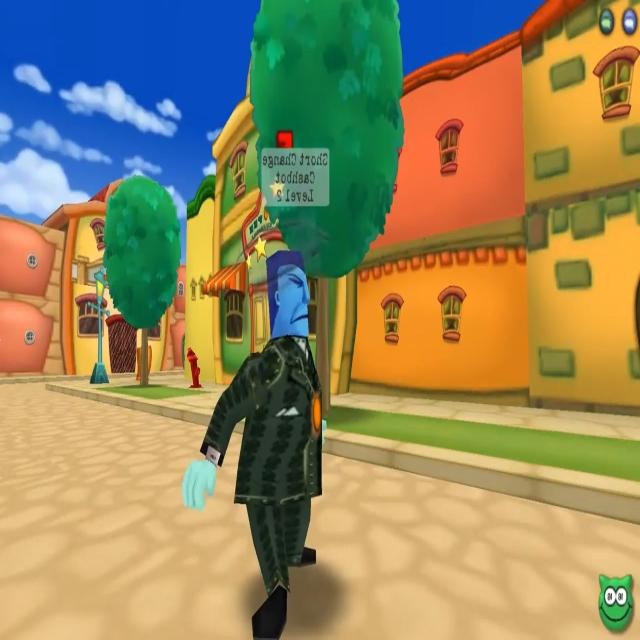shortchange: (178, 144, 328, 640)
